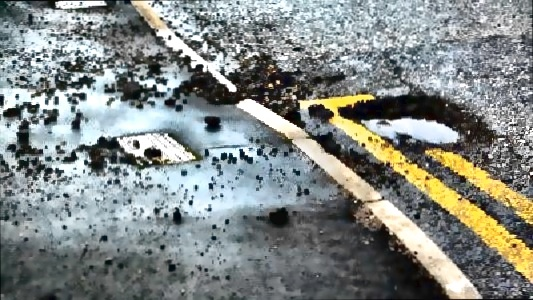pothole: (337, 92, 495, 153)
